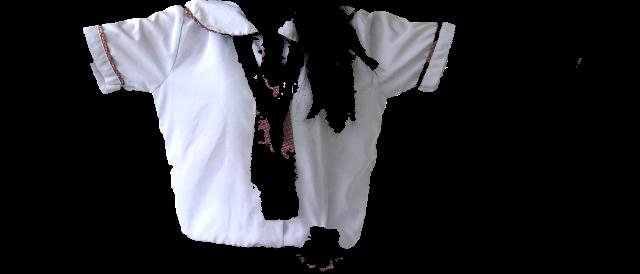pologirl: (83, 0, 455, 248)
